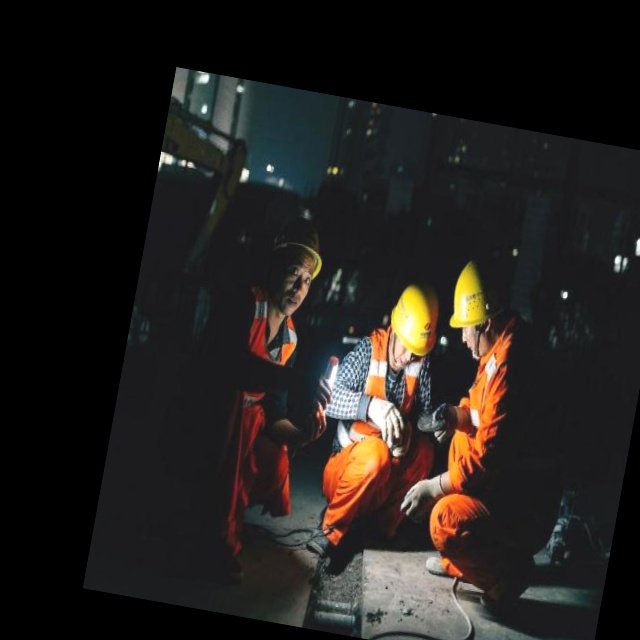Con_Casco: (263, 218, 328, 320), (445, 258, 508, 356), (383, 281, 445, 377)
